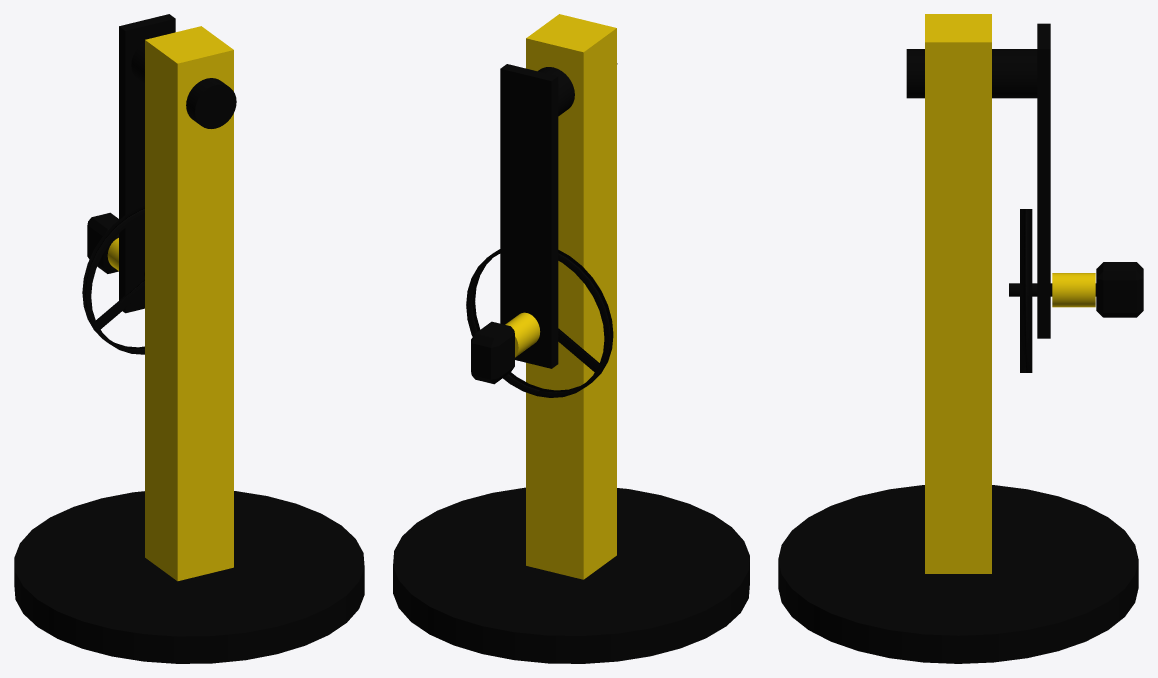
File: rwpendulum.fbx
3 views of the same model, side by side, from view 1: azimuth 30°, elevation 25°; view 2: azimuth 150°, elevation 25°; view 3: azimuth 270°, elevation 25° (orthographic). The views are drawn at different scales.
Parts seen in each view (by area): view 1: Cube, Cylinder, Cube.001, Cylinder.001, Cylinder.005, Cube.005; view 2: Cylinder, Cube, Cube.001, Cylinder.005, Cube.005, Cylinder.004, Cylinder.001; view 3: Cylinder, Cube, Cube.001, Cylinder.001, Cube.005, Cylinder.005, Cylinder.004.
Boxes of the visible parts, left/top/right/bottom form: Cube: left=145, top=26, right=233, bottom=581; Cylinder: left=14, top=491, right=364, bottom=663; Cube.001: left=119, top=14, right=175, bottom=313; Cylinder.001: left=131, top=42, right=236, bottom=128; Cylinder.005: left=82, top=206, right=144, bottom=354; Cube.005: left=87, top=212, right=118, bottom=273; Cylinder: left=393, top=487, right=749, bottom=663; Cube: left=526, top=14, right=616, bottom=579; Cube.001: left=500, top=64, right=558, bottom=368; Cylinder.005: left=466, top=249, right=613, bottom=397; Cube.005: left=471, top=321, right=514, bottom=384; Cylinder.004: left=505, top=312, right=540, bottom=357; Cylinder.001: left=538, top=63, right=617, bottom=116; Cylinder: left=778, top=485, right=1138, bottom=663; Cube: left=925, top=14, right=991, bottom=573; Cube.001: left=1037, top=23, right=1050, bottom=338; Cylinder.001: left=906, top=49, right=1037, bottom=98; Cube.005: left=1096, top=262, right=1143, bottom=317; Cylinder.005: left=1020, top=209, right=1032, bottom=372; Cylinder.004: left=1052, top=273, right=1095, bottom=307.
Size of the model in its own units: 49.74 by 85.21 by 50.45.
